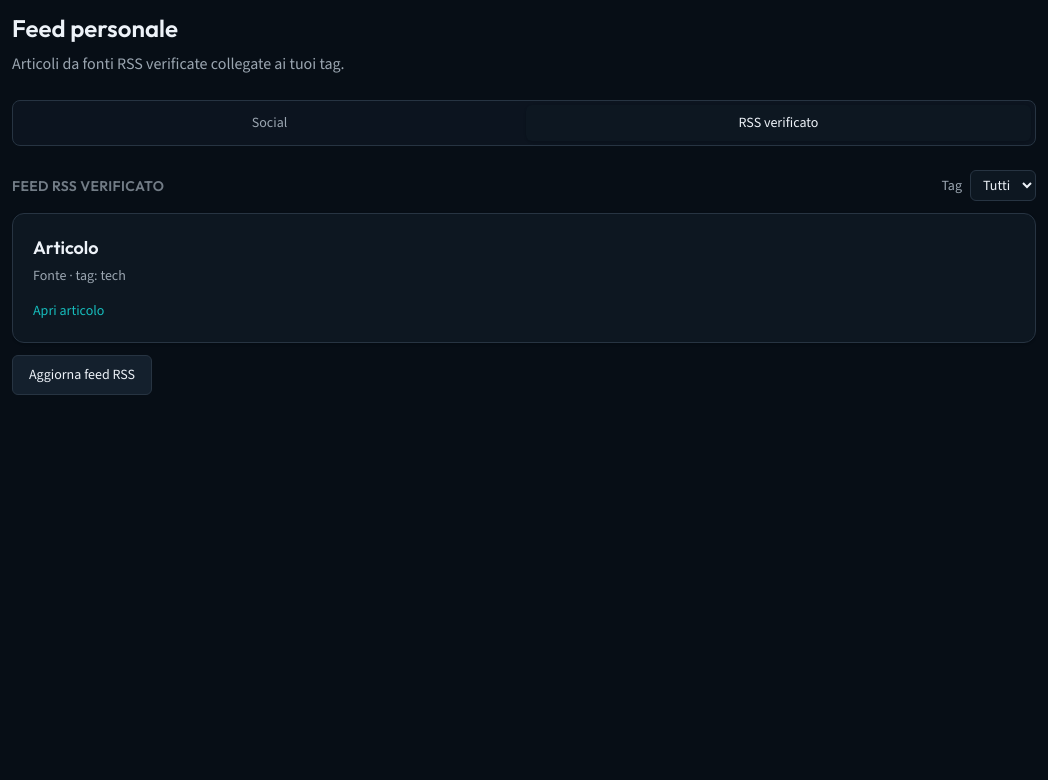
Test: FeedPage › passando da RSS a Social e ritorno, il feed RSS si ricarica senza errori
expect the heading "Articolo" is shown: met, box [33,236,98,259]
Step 1. Click the tab "Social" → (270, 123), box [17,105,522,141]
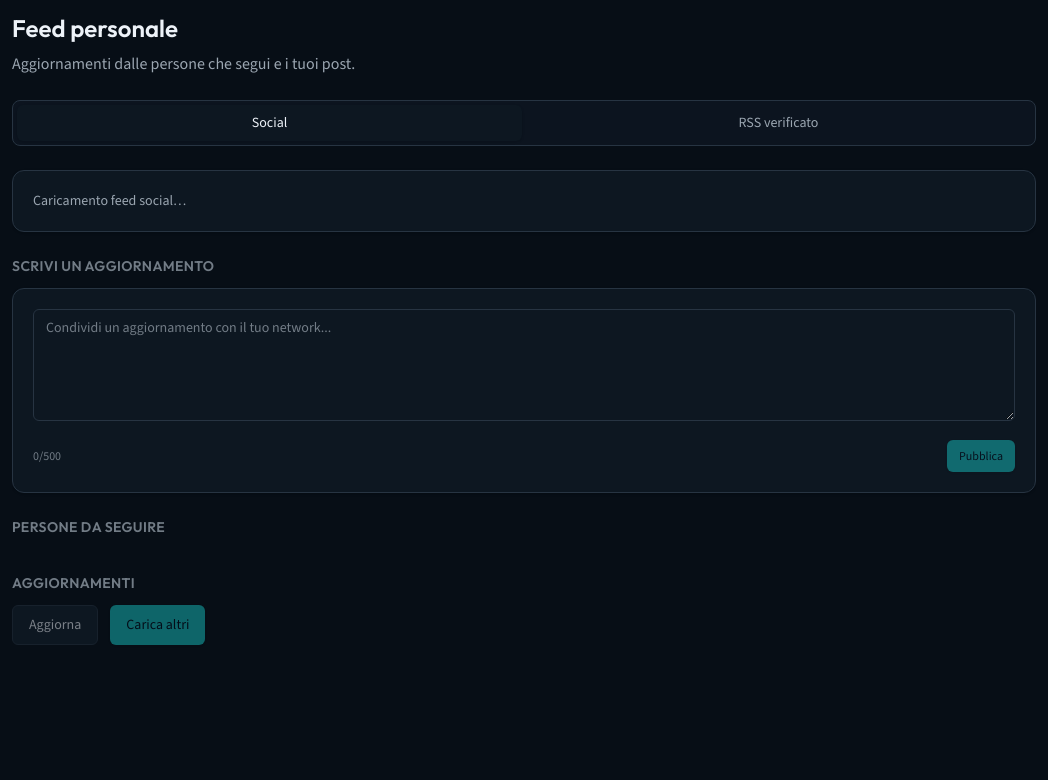
expect the heading "Aggiornamenti" is shown: met, box [12,574,135,592]
Step 2. Click the tab "RSS verificato" → (778, 123), box [526,105,1031,141]
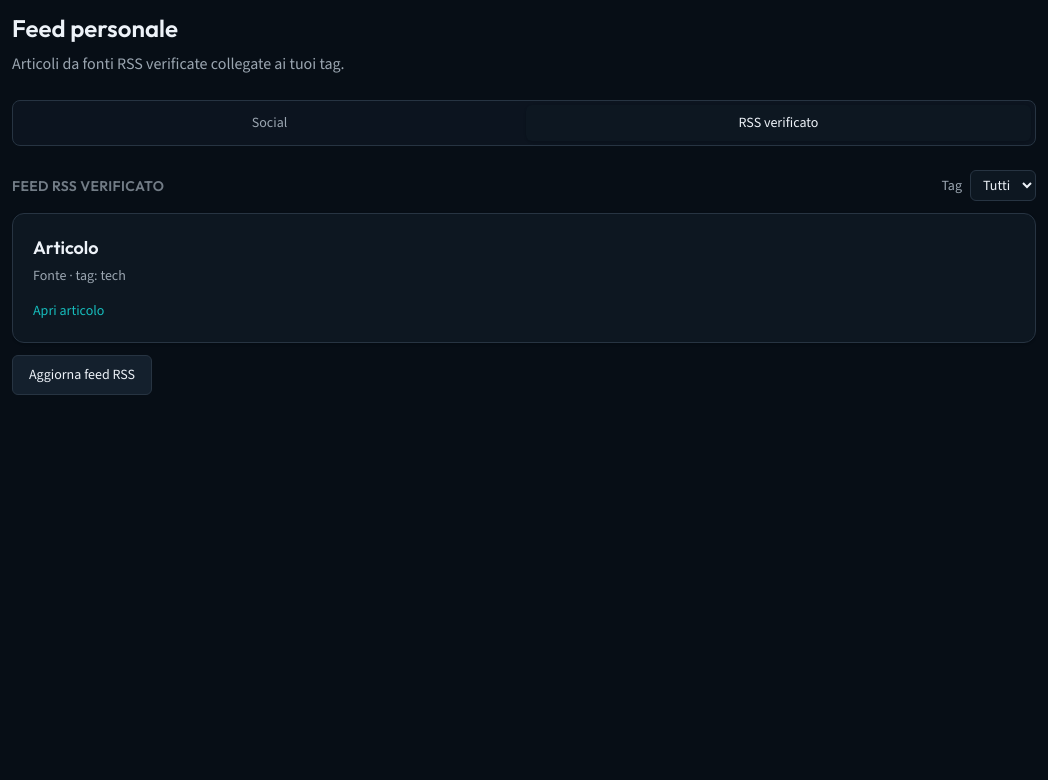
expect the heading "Articolo" is shown: met, box [33,236,98,259]
expect the message "Caricamento feed social…" is gone: met
